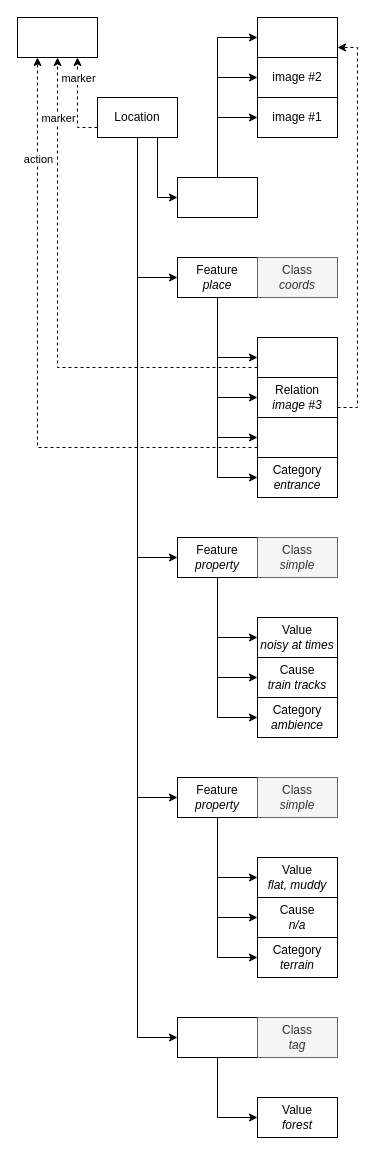
Some shapes in this 383 by 1155 pixel diagram are drawn without their labels. Here are the shapes that lost their labels. From the top down, the centre of each, then its label:
At [57,37]: "Map".
At [297,37]: "image #3".
At [217,197]: "Gallery".
At [297,357]: "Value 54.57, -34.23".
At [297,437]: "Activity navigate".
At [217,1037]: "Feature category".
